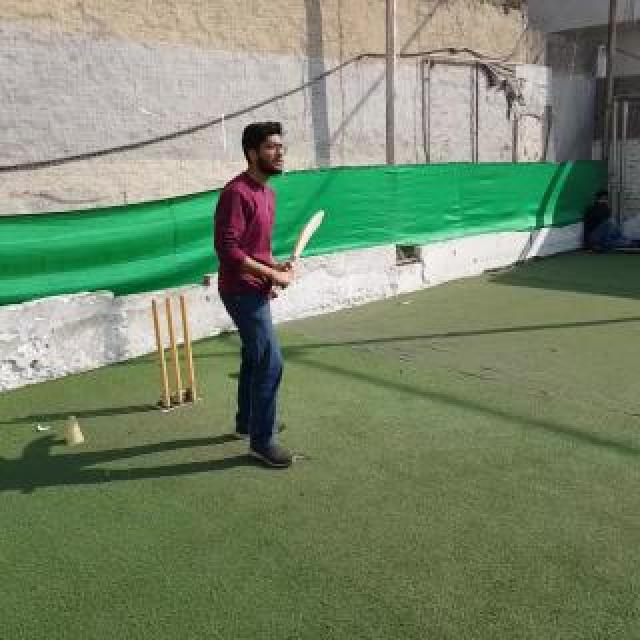bat: (272, 212, 326, 300)
